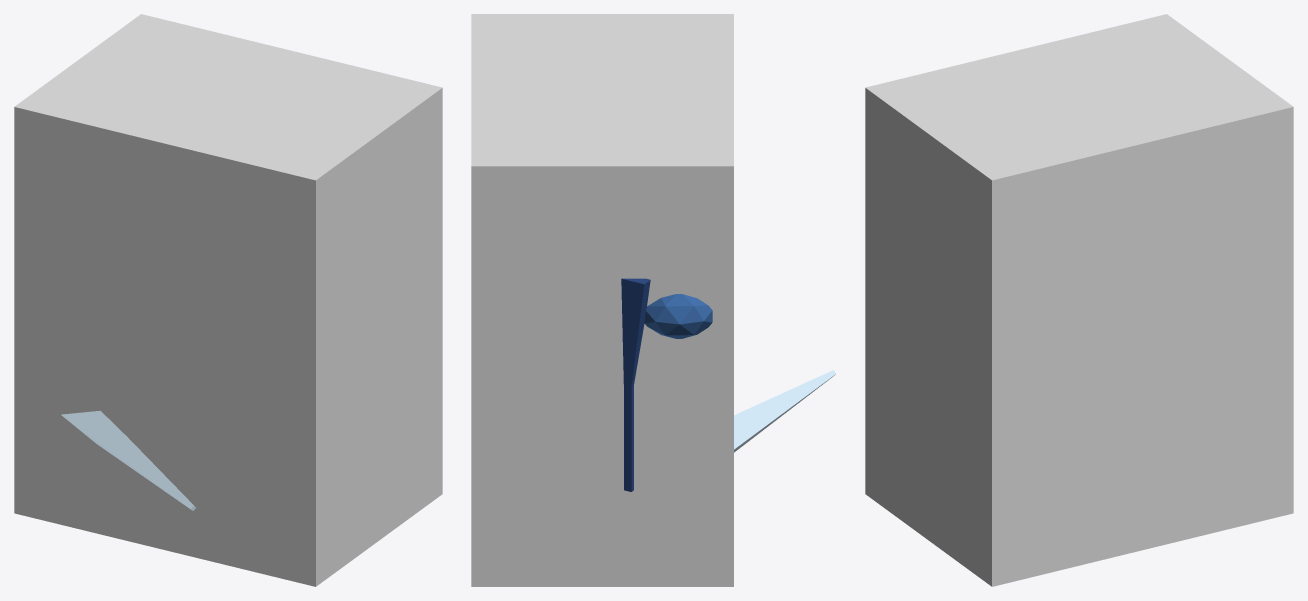
The model's file is tundra_ice_knight_captain.fbx.
3 renders of one model, left to right at view 1: azimuth 30°, elevation 25°; view 2: azimuth 150°, elevation 25°; view 3: azimuth 270°, elevation 25°, orthographic. The views are drawn at different scales.
Parts seen in each view (by area): view 1: Root__0.00_5.00_-2.36__5.66_10.00_7.76, ArmR__Torso__1.70_6.25_0.00; view 2: Root__0.00_5.00_-2.36__5.66_10.00_7.76, Torso__Root__0.00_3.95_0.00, ArmR__Torso__1.70_6.25_0.00; view 3: Root__0.00_5.00_-2.36__5.66_10.00_7.76.
Part boxes in pixels (x1,y1,x2,y2): Root__0.00_5.00_-2.36__5.66_10.00_7.76: [14, 14, 442, 586]; ArmR__Torso__1.70_6.25_0.00: [61, 410, 195, 510]; Root__0.00_5.00_-2.36__5.66_10.00_7.76: [471, 14, 733, 586]; Torso__Root__0.00_3.95_0.00: [621, 278, 712, 491]; ArmR__Torso__1.70_6.25_0.00: [734, 370, 836, 452]; Root__0.00_5.00_-2.36__5.66_10.00_7.76: [865, 14, 1293, 586].
Size of the model in its own units: 246 by 281 by 267.
1 material, 1 textured.
